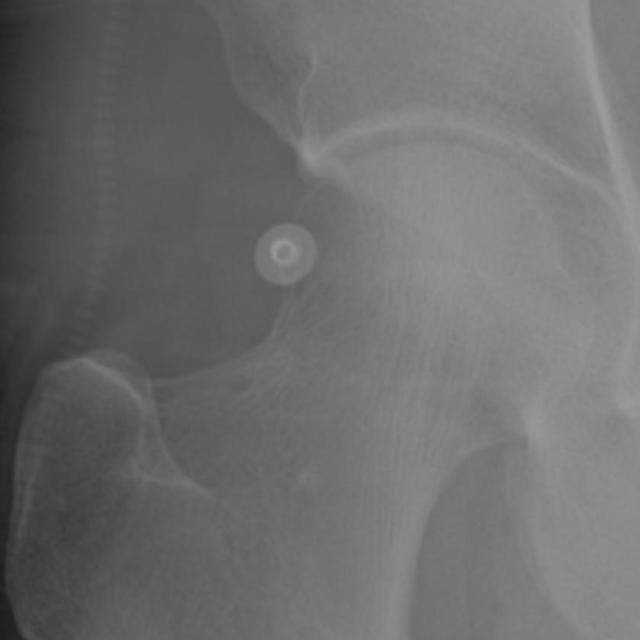Fitted_femural_head: (321, 145, 432, 321)
